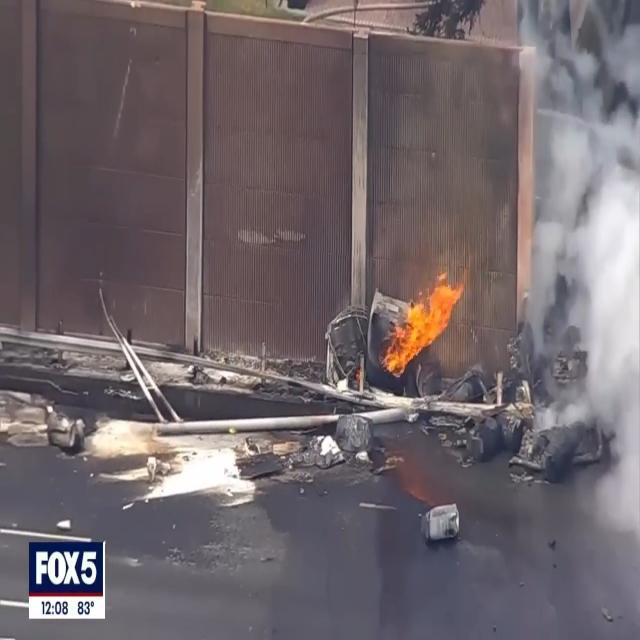fire: (382, 270, 468, 377)
